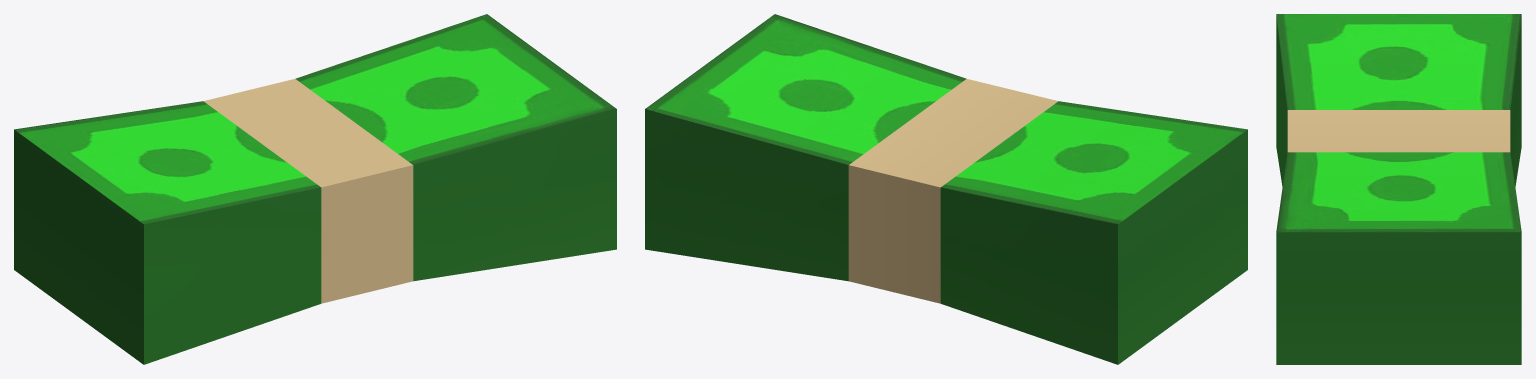
Rendered from money.fbx.
3 views of the same model, side by side, from view 1: azimuth 30°, elevation 25°; view 2: azimuth 150°, elevation 25°; view 3: azimuth 270°, elevation 25° (orthographic). The views are drawn at different scales.
Visible parts, largest first — view 1: Cube; view 2: Cube; view 3: Cube.
Boxes of the visible parts, x1,y1,x2,y2 form: Cube: (14,14,616,364); Cube: (645,14,1247,364); Cube: (1276,14,1521,364).
Bounding box in the file's own units: 0.5954 × 0.169 × 0.2831.
